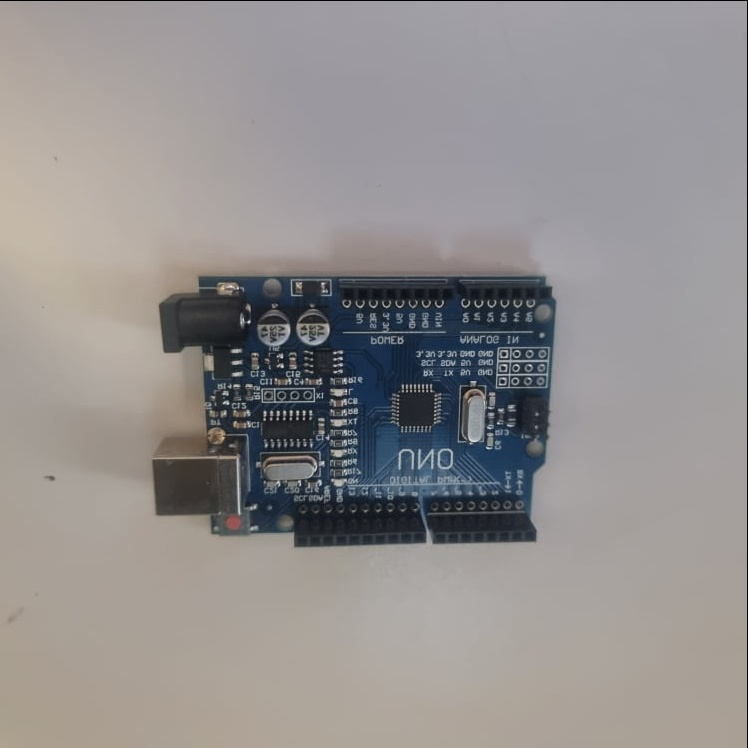UNO R3: (153, 271, 558, 548)
